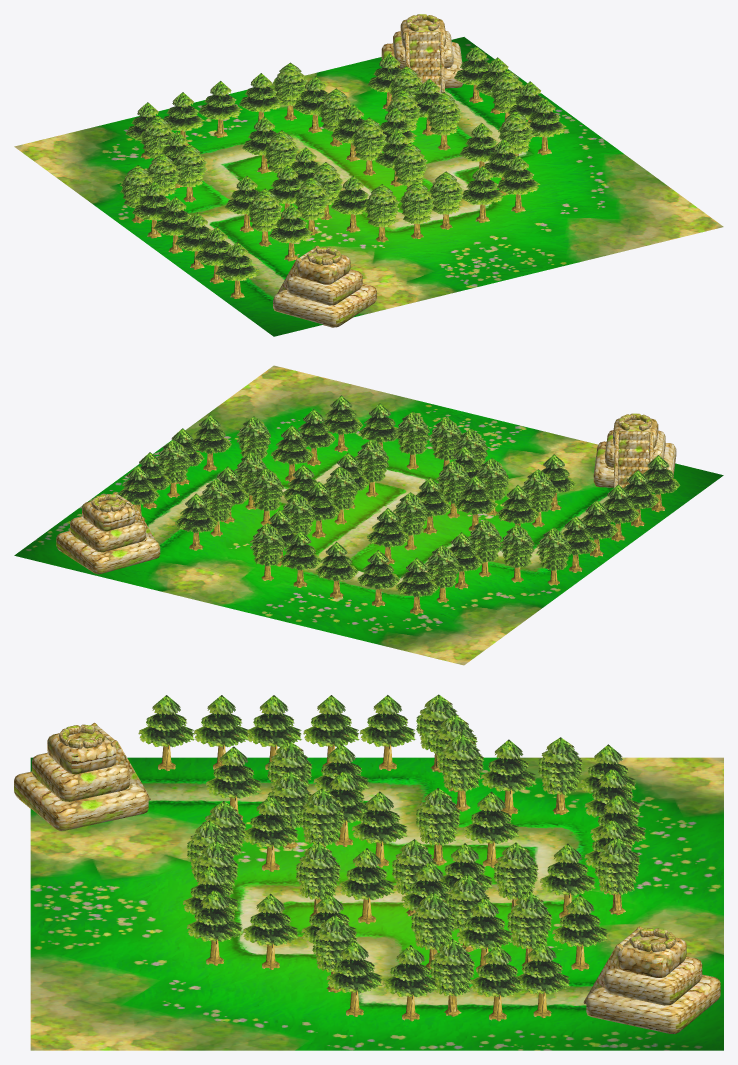
Rendered from level.fbx.
3 renders of one model, top to bottom at view 1: azimuth 30°, elevation 25°; view 2: azimuth 150°, elevation 25°; view 3: azimuth 270°, elevation 25°, orthographic. The views are drawn at different scales.
Visible parts, largest first — view 1: ground, templeEnemy, templePlayer, tree_B026, tree_B024, tree_B027, tree_B035, tree_B031, tree_B025, tree_A053, tree_B030, tree_A062 (+40 smaller); view 2: ground, templePlayer, templeEnemy, tree_B041, tree_B037, tree_B040, tree_B025, tree_B034, tree_A057, tree_A037, tree_A053, tree_A055 (+40 smaller); view 3: ground, templeEnemy, templePlayer, tree_B039, tree_B037, tree_B038, tree_B029, tree_B022, tree_A040, tree_A041, tree_A037, tree_A035 (+41 smaller).
Part boxes in pixels (x1,y1,x2,y2): ground: [14, 37, 723, 336]; templeEnemy: [273, 245, 376, 327]; templePlayer: [381, 14, 463, 92]; tree_B026: [399, 181, 434, 238]; tree_B024: [426, 92, 461, 150]; tree_B027: [364, 184, 399, 242]; tree_B035: [247, 188, 282, 246]; tree_B031: [351, 117, 386, 175]; tree_B025: [428, 171, 463, 229]; tree_A053: [198, 81, 242, 137]; tree_B030: [294, 177, 329, 235]; tree_A062: [215, 242, 259, 298]; ground: [14, 365, 723, 665]; templePlayer: [56, 492, 160, 574]; templeEnemy: [593, 413, 676, 487]; tree_B041: [536, 527, 570, 585]; tree_B037: [250, 523, 284, 580]; tree_B040: [500, 524, 534, 582]; tree_B025: [395, 411, 429, 469]; tree_B034: [249, 468, 283, 525]; tree_A057: [395, 558, 438, 614]; tree_A037: [175, 493, 218, 550]; tree_A053: [315, 541, 358, 598]; tree_A055: [357, 550, 400, 606]; ground: [30, 757, 723, 1050]; templeEnemy: [14, 722, 150, 830]; templePlayer: [583, 926, 720, 1033]; tree_B039: [538, 737, 583, 814]; tree_B037: [594, 837, 639, 915]; tree_B038: [439, 734, 483, 811]; tree_B029: [415, 788, 460, 865]; tree_B022: [430, 939, 474, 1016]; tree_A040: [242, 893, 298, 969]; tree_A041: [187, 889, 242, 965]; tree_A037: [552, 895, 608, 970]; tree_A035: [326, 941, 382, 1016].
Size of the model in its own units: 8.05 by 0.9817 by 8.17.
